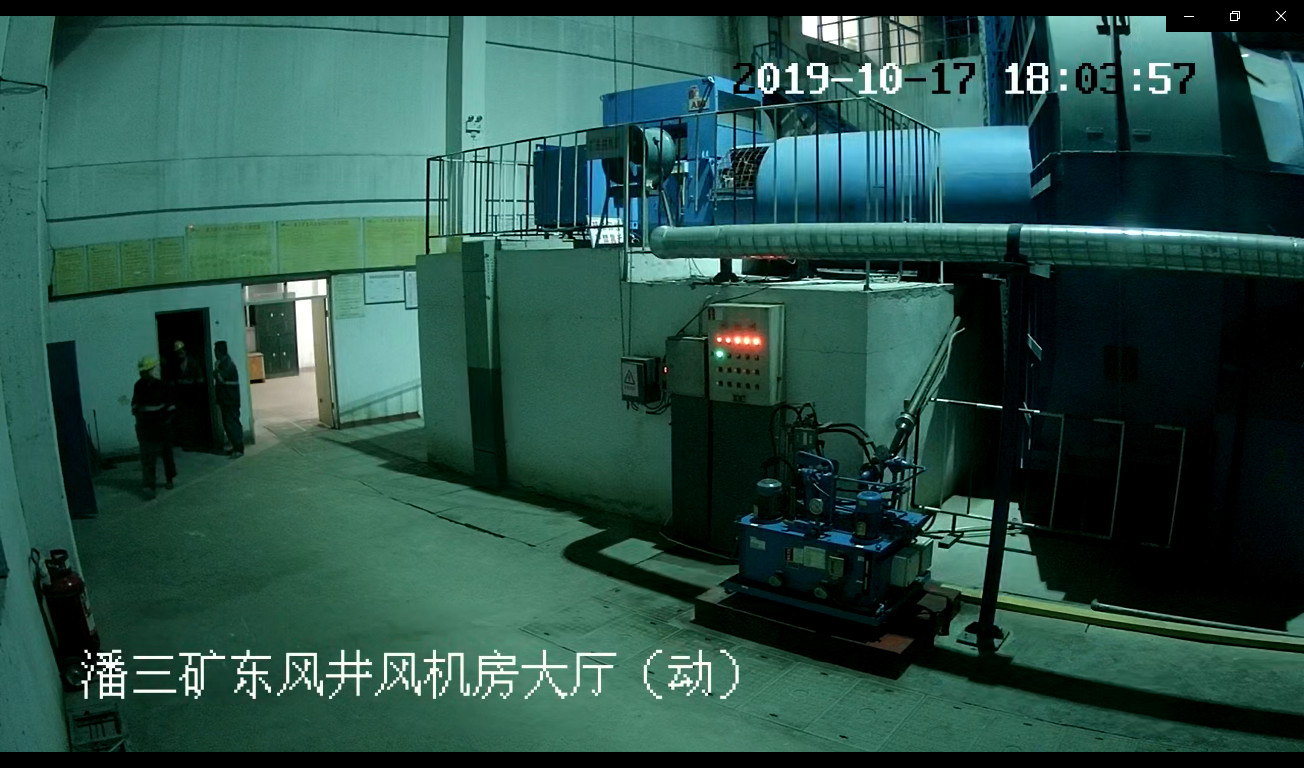helmet: (136, 355, 159, 371), (173, 340, 184, 350)
